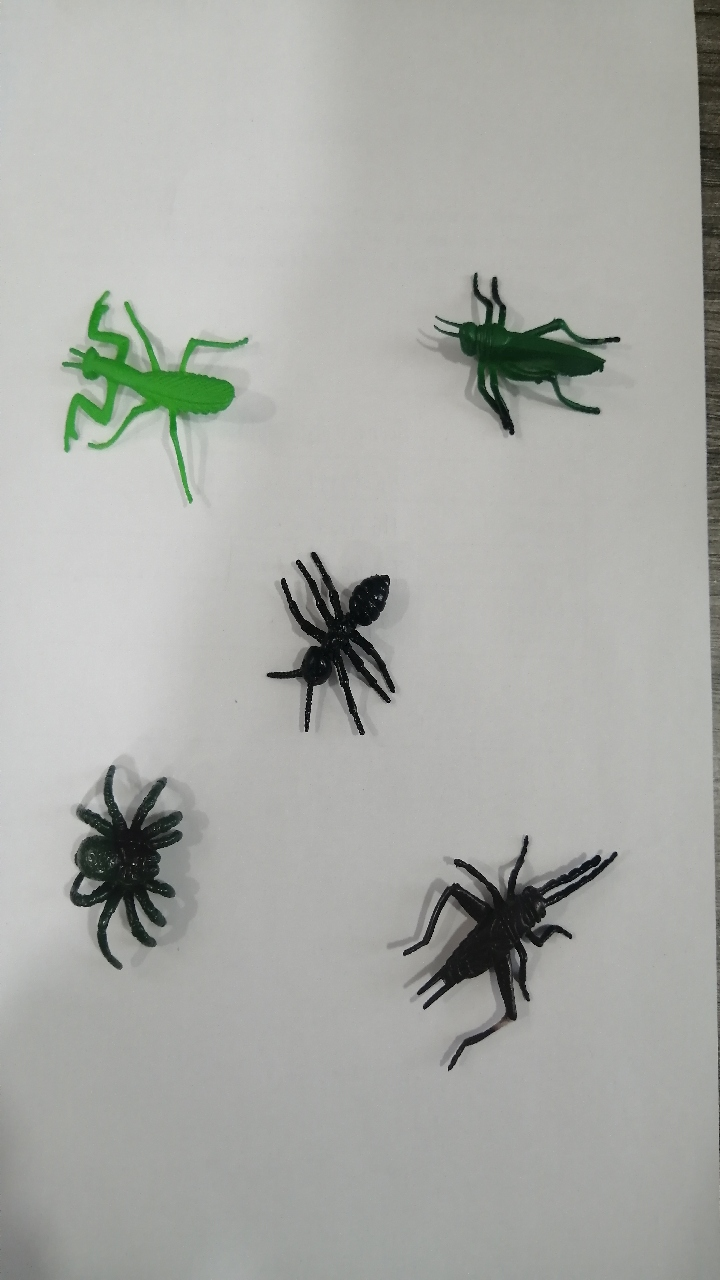intruso: (363, 799, 655, 1105), (28, 248, 255, 526), (40, 740, 231, 992), (420, 235, 641, 452), (257, 525, 429, 755)
